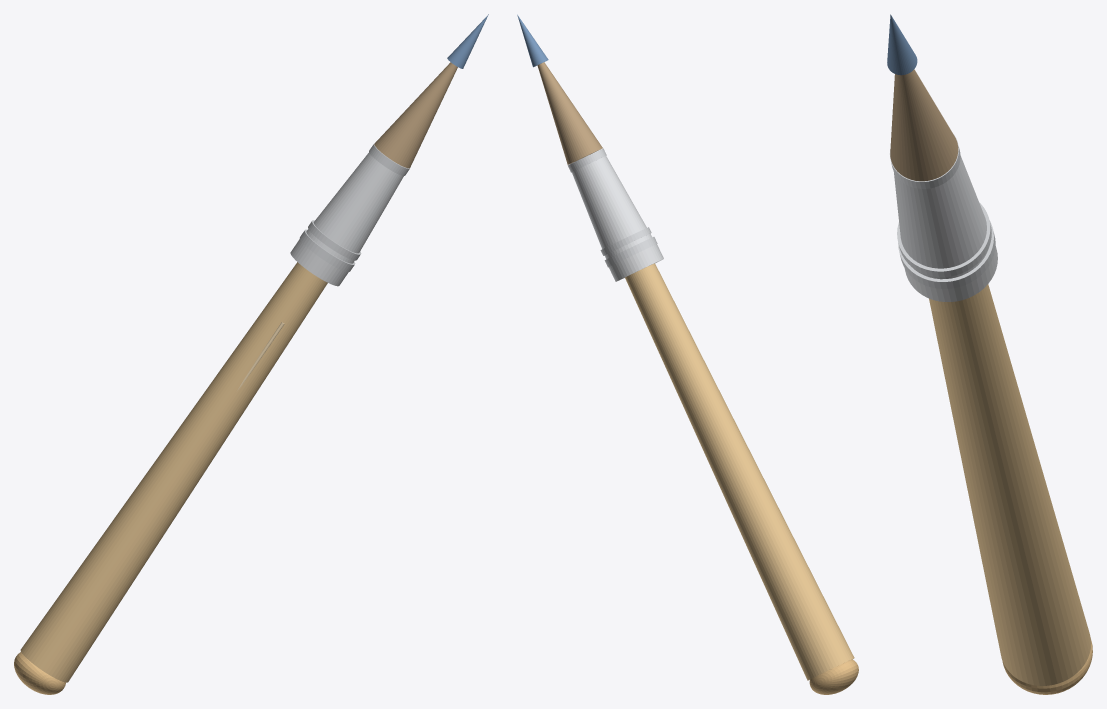
Rendered from paintbrush.glb.
3 renders of one model, left to right at view 1: azimuth 30°, elevation 25°; view 2: azimuth 150°, elevation 25°; view 3: azimuth 270°, elevation 25°, orthographic. The views are drawn at different scales.
Parts seen in each view (by area): view 1: wood_handle, metal_ferrule, bristles_main, wood_endcap, metal_collar; view 2: wood_handle, metal_ferrule, bristles_main, wood_endcap, metal_collar; view 3: wood_handle, metal_ferrule, bristles_main, metal_collar, ferrule_ring_0, ferrule_ring_1, bristle_tip, wood_endcap, ferrule_lip.
Boxes of the visible parts, box(x1,y1,x2,y2) form: wood_handle: box(20, 262, 327, 682); metal_ferrule: box(306, 152, 403, 263); bristles_main: box(374, 62, 457, 168); wood_endcap: box(14, 652, 65, 694); metal_collar: box(290, 239, 348, 286); wood_handle: box(625, 263, 854, 680); metal_ferrule: box(572, 156, 652, 259); bristles_main: box(537, 62, 602, 164); wood_endcap: box(809, 659, 858, 694); metal_collar: box(609, 244, 663, 281); wood_handle: box(929, 284, 1091, 685); metal_ferrule: box(894, 156, 989, 279); bristles_main: box(890, 69, 958, 181); metal_collar: box(904, 246, 997, 301); ferrule_ring_0: box(898, 221, 995, 288); ferrule_ring_1: box(897, 202, 991, 277); bristle_tip: box(887, 14, 917, 75); wood_endcap: box(1002, 640, 1092, 694); ferrule_lip: box(889, 134, 960, 188).
Bounding box in the file's own units: 3.04 × 4.26 × 0.8088.
